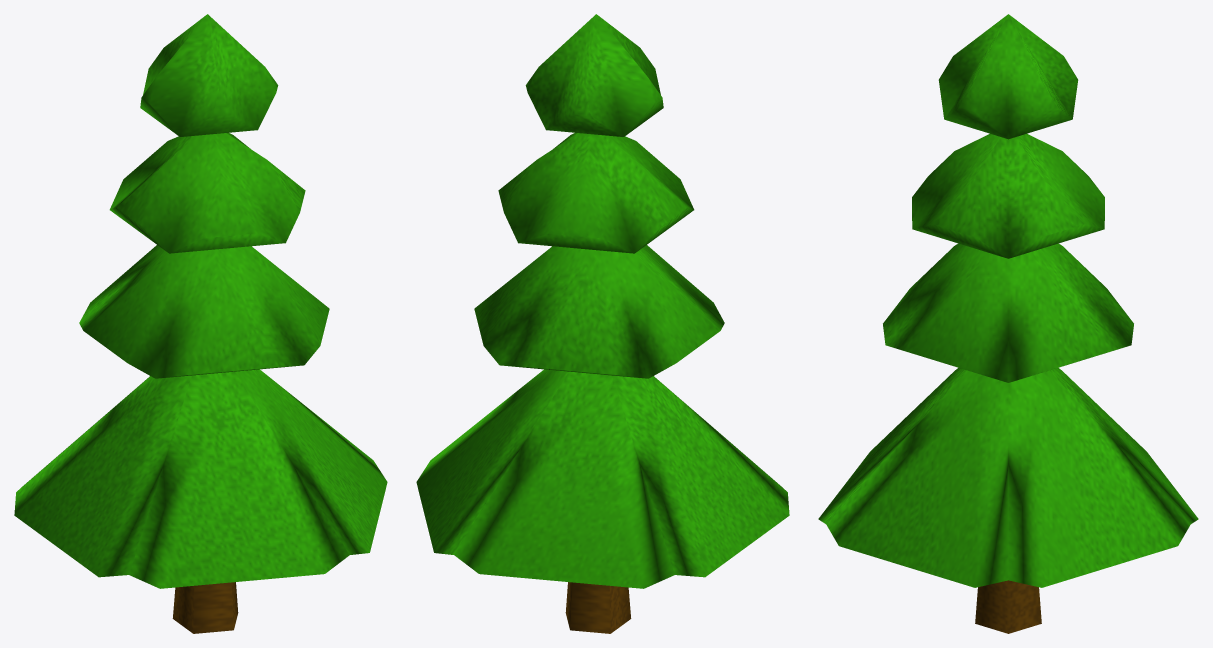
Rendered from Sosna.fbx.
The picture shows the model from 3 angles, left to right: view 1: azimuth 30°, elevation 25°; view 2: azimuth 150°, elevation 25°; view 3: azimuth 270°, elevation 25°; orthographic projection.
Visible parts, largest first — view 1: Sosna; view 2: Sosna; view 3: Sosna.
Boxes of the visible parts, x1,y1,x2,y2 form: Sosna: (14, 14, 387, 633); Sosna: (416, 14, 789, 633); Sosna: (818, 14, 1198, 633).
Size of the model in its own units: 489 by 894 by 510.
